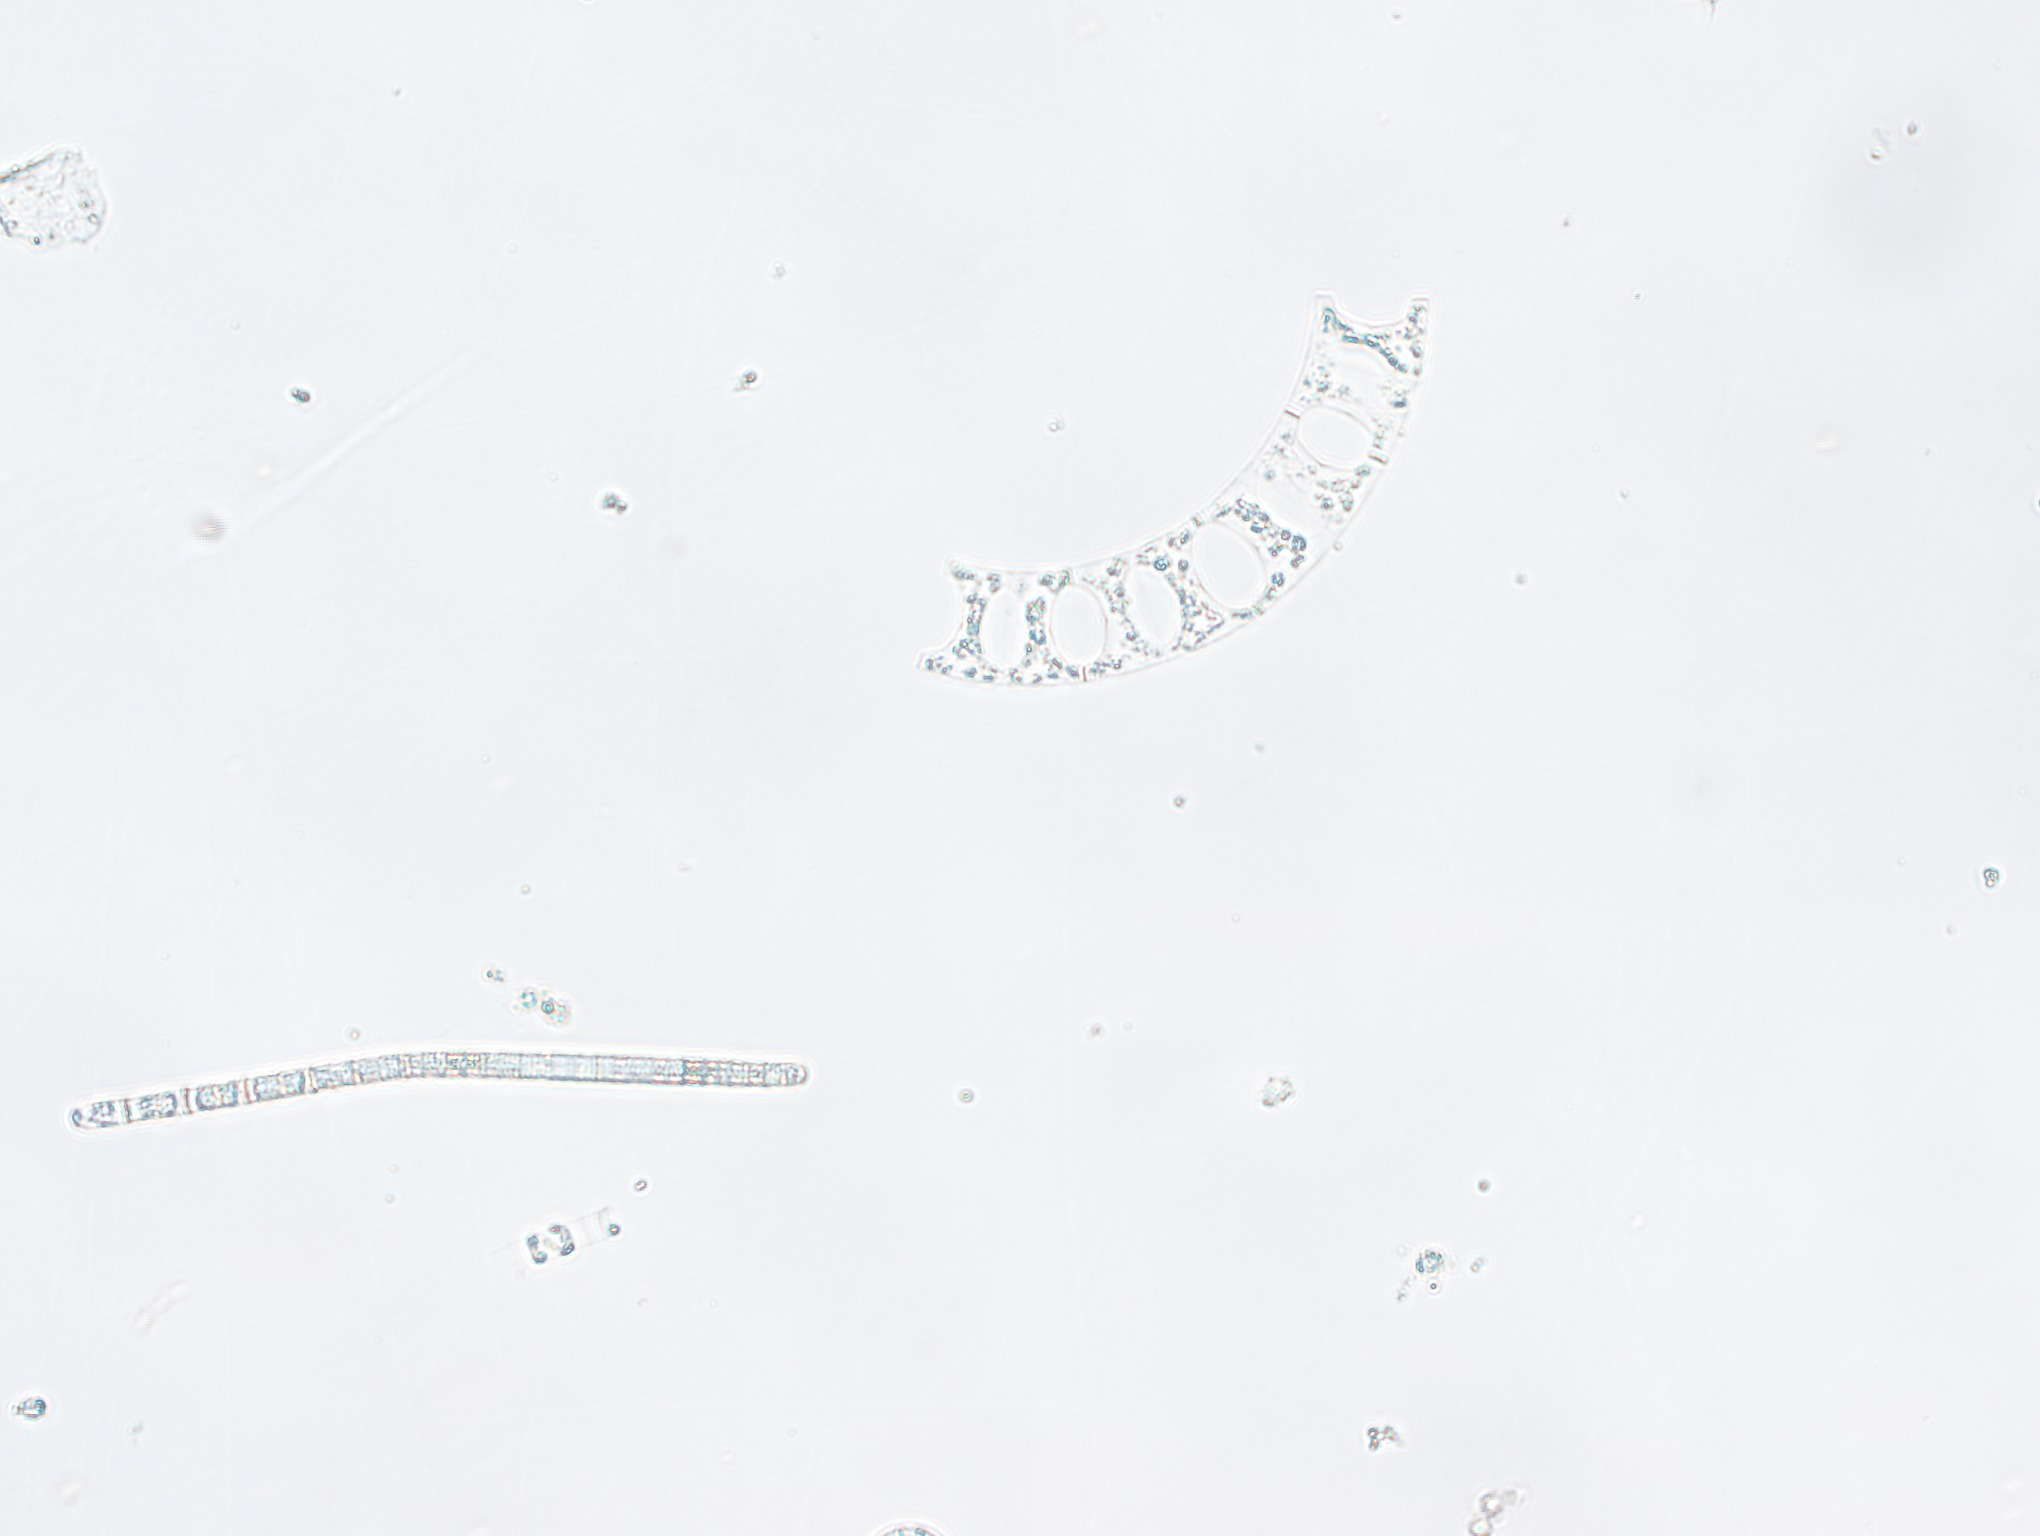eucampia: (876, 252, 1438, 720)
